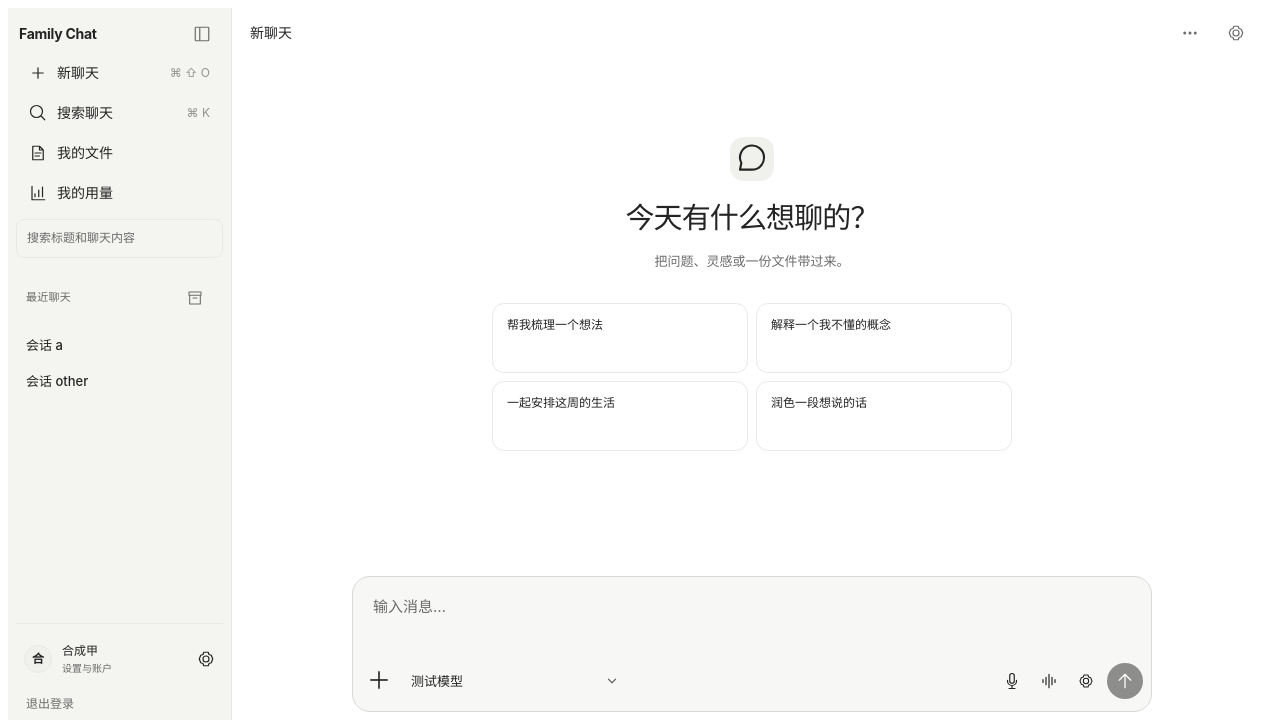
server full-text matches are displayed even when the title does not match; stale query cannot replace them
Expected: the button "会话 a" is shown, [16,328,223,362]
In the search field named "搜索聊天": coordinates (120, 238) [16,219,223,258], type "old"
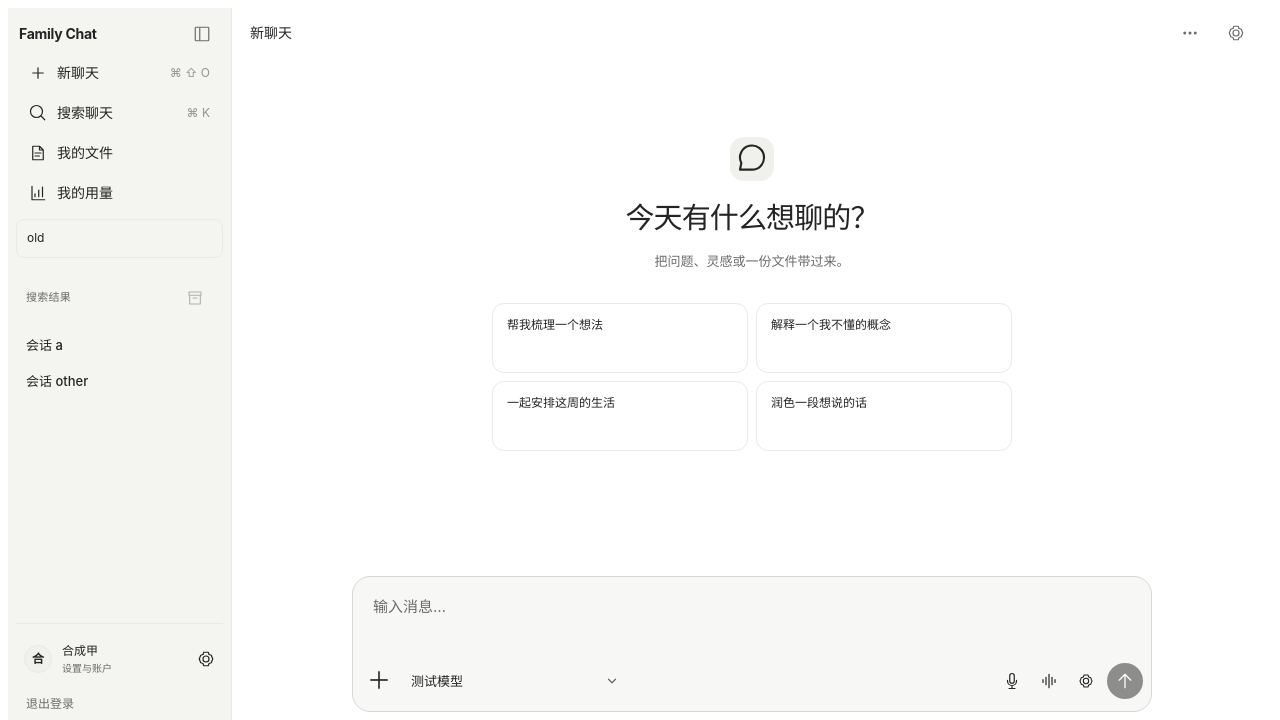
Replace the text in the search field named "搜索聊天" with "needle": coordinates (120, 238) [16,219,223,258]
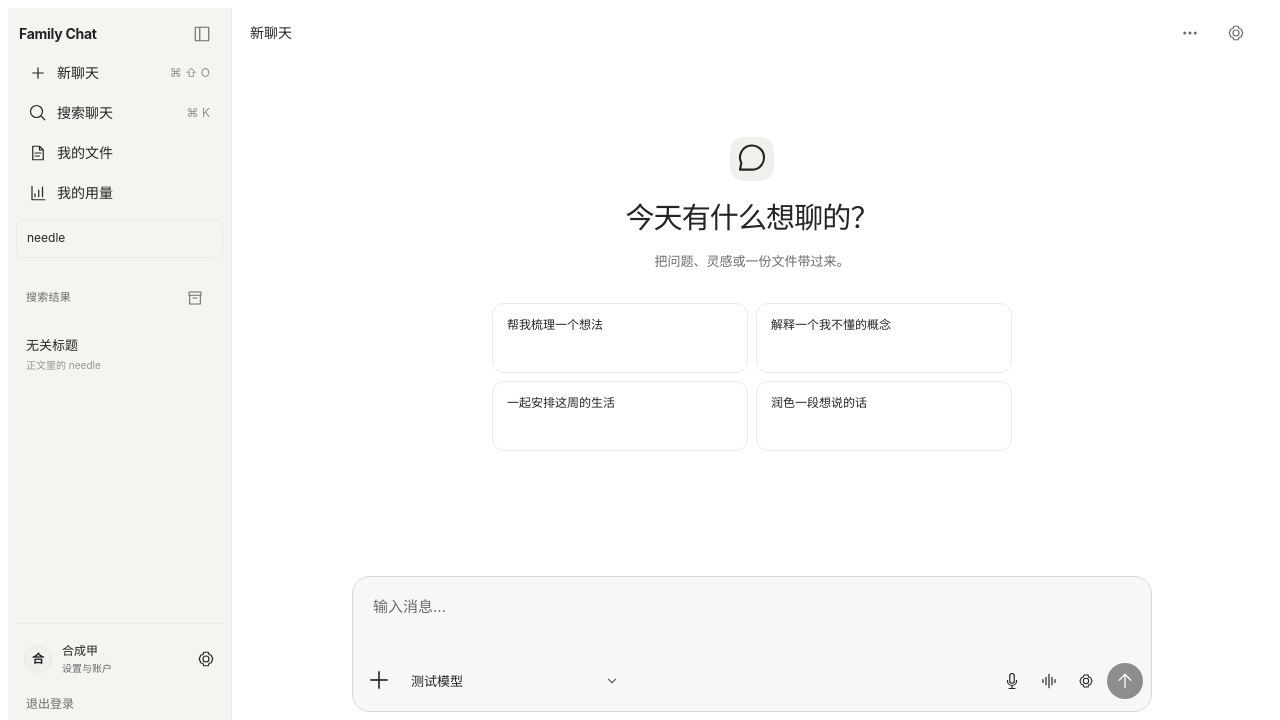
Now the button "无关标题 正文里的 needle" is shown, box [16,328,223,380]
Now the text "正文里的 needle" is shown, box [26,358,101,373]
